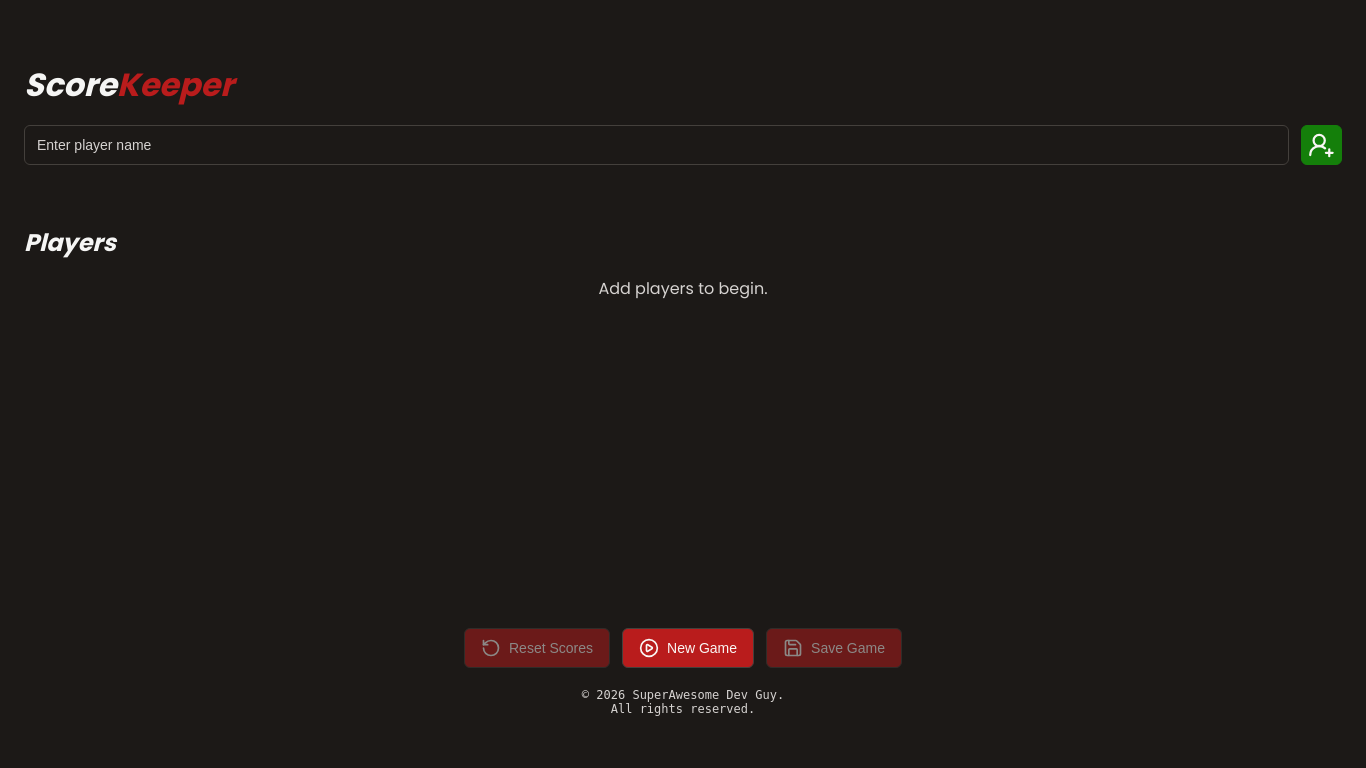
Test case: ScorekeeperPage (integration) › adds a player when name is entered and form is submitted
In the field with placeholder "Enter player name": (657, 145) left=24, top=125, right=1289, bottom=165, type "Alice"
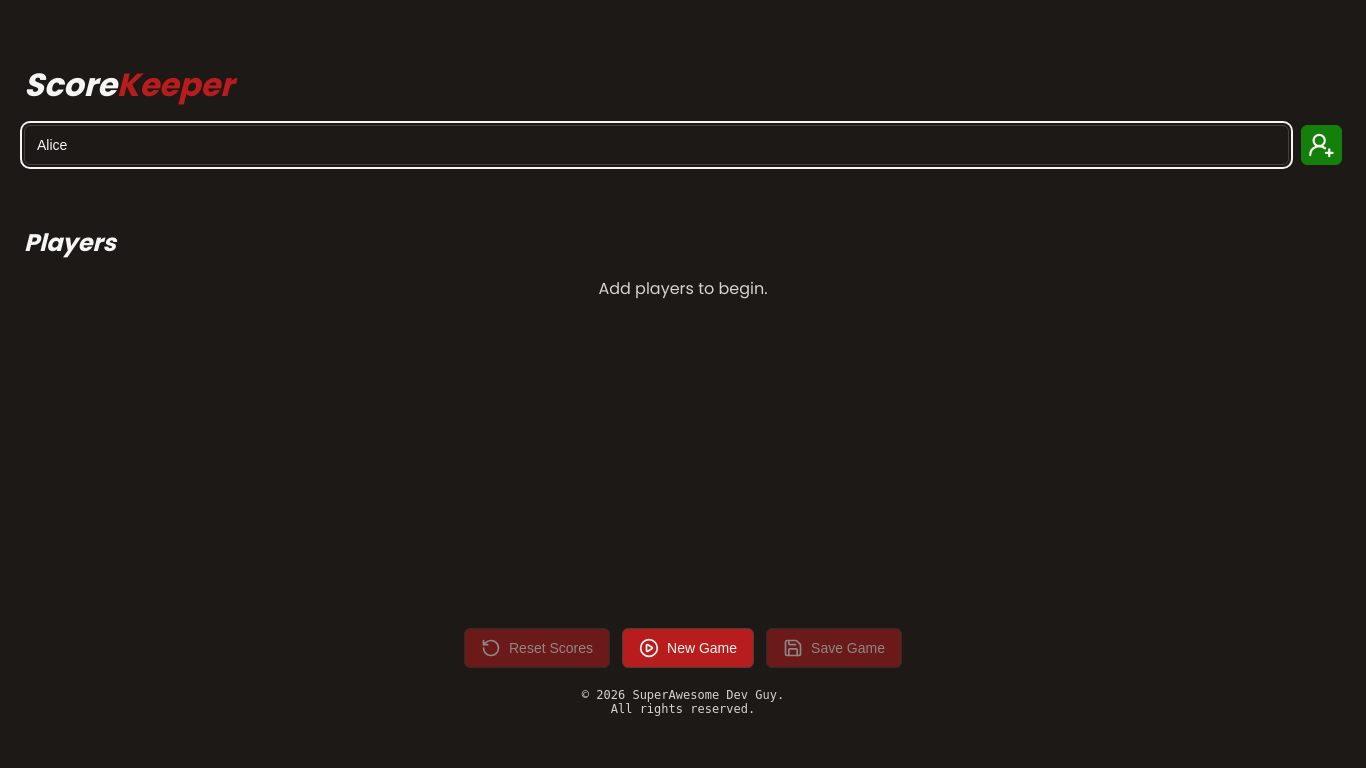
Click the button named "Add player": (1322, 145) left=1301, top=125, right=1342, bottom=165
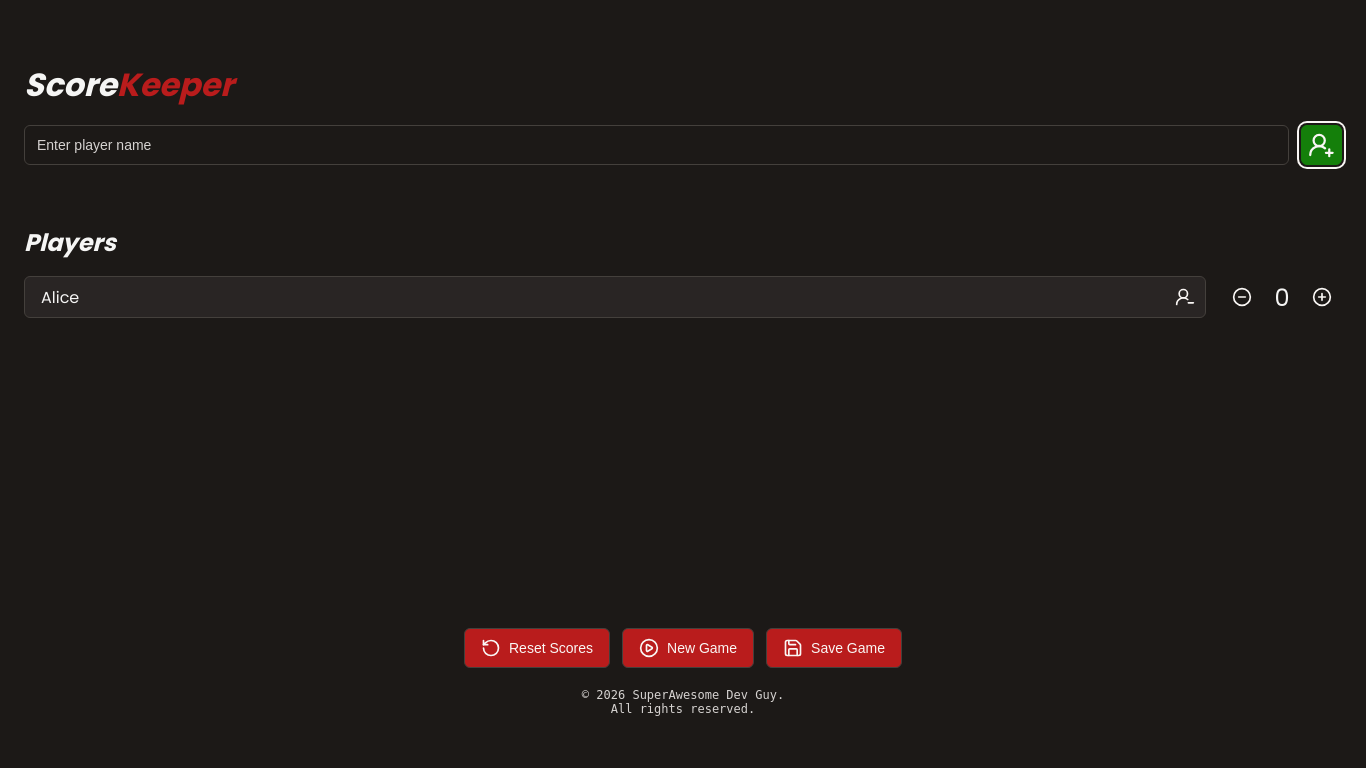
Now the text "Alice" is shown, box left=41, top=286, right=79, bottom=309
Now the text "0" is shown, box left=1274, top=281, right=1290, bottom=314
Now the field with placeholder "Enter player name" is empty, box left=24, top=125, right=1289, bottom=165
